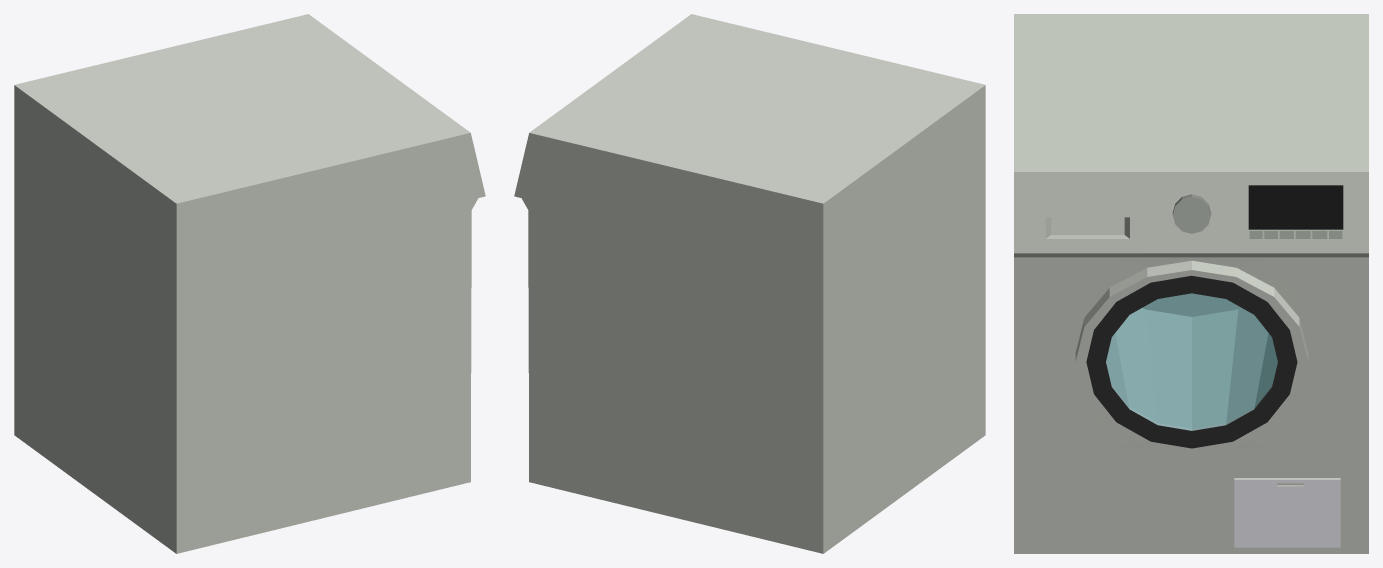
File: laundrymachine.fbx
3 renders of one model, left to right at view 1: azimuth 30°, elevation 25°; view 2: azimuth 150°, elevation 25°; view 3: azimuth 270°, elevation 25°, orthographic. The views are drawn at different scales.
Visible parts, largest first — view 1: LaundryMachine; view 2: LaundryMachine; view 3: LaundryMachine.
Boxes of the visible parts, x1=… form: LaundryMachine: x1=14, y1=14, x2=485, y2=553; LaundryMachine: x1=514, y1=14, x2=985, y2=553; LaundryMachine: x1=1014, y1=14, x2=1368, y2=553.
Bounding box in the file's own units: 474 × 500 × 420.
